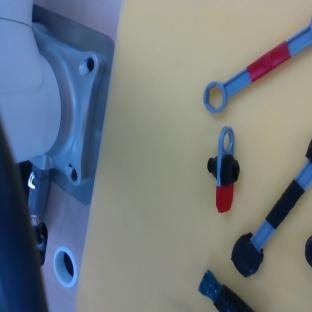part_1_bad: (305, 236, 312, 266)
part_1_good: (201, 125, 246, 213)
part_2_bad: (191, 269, 255, 312)
